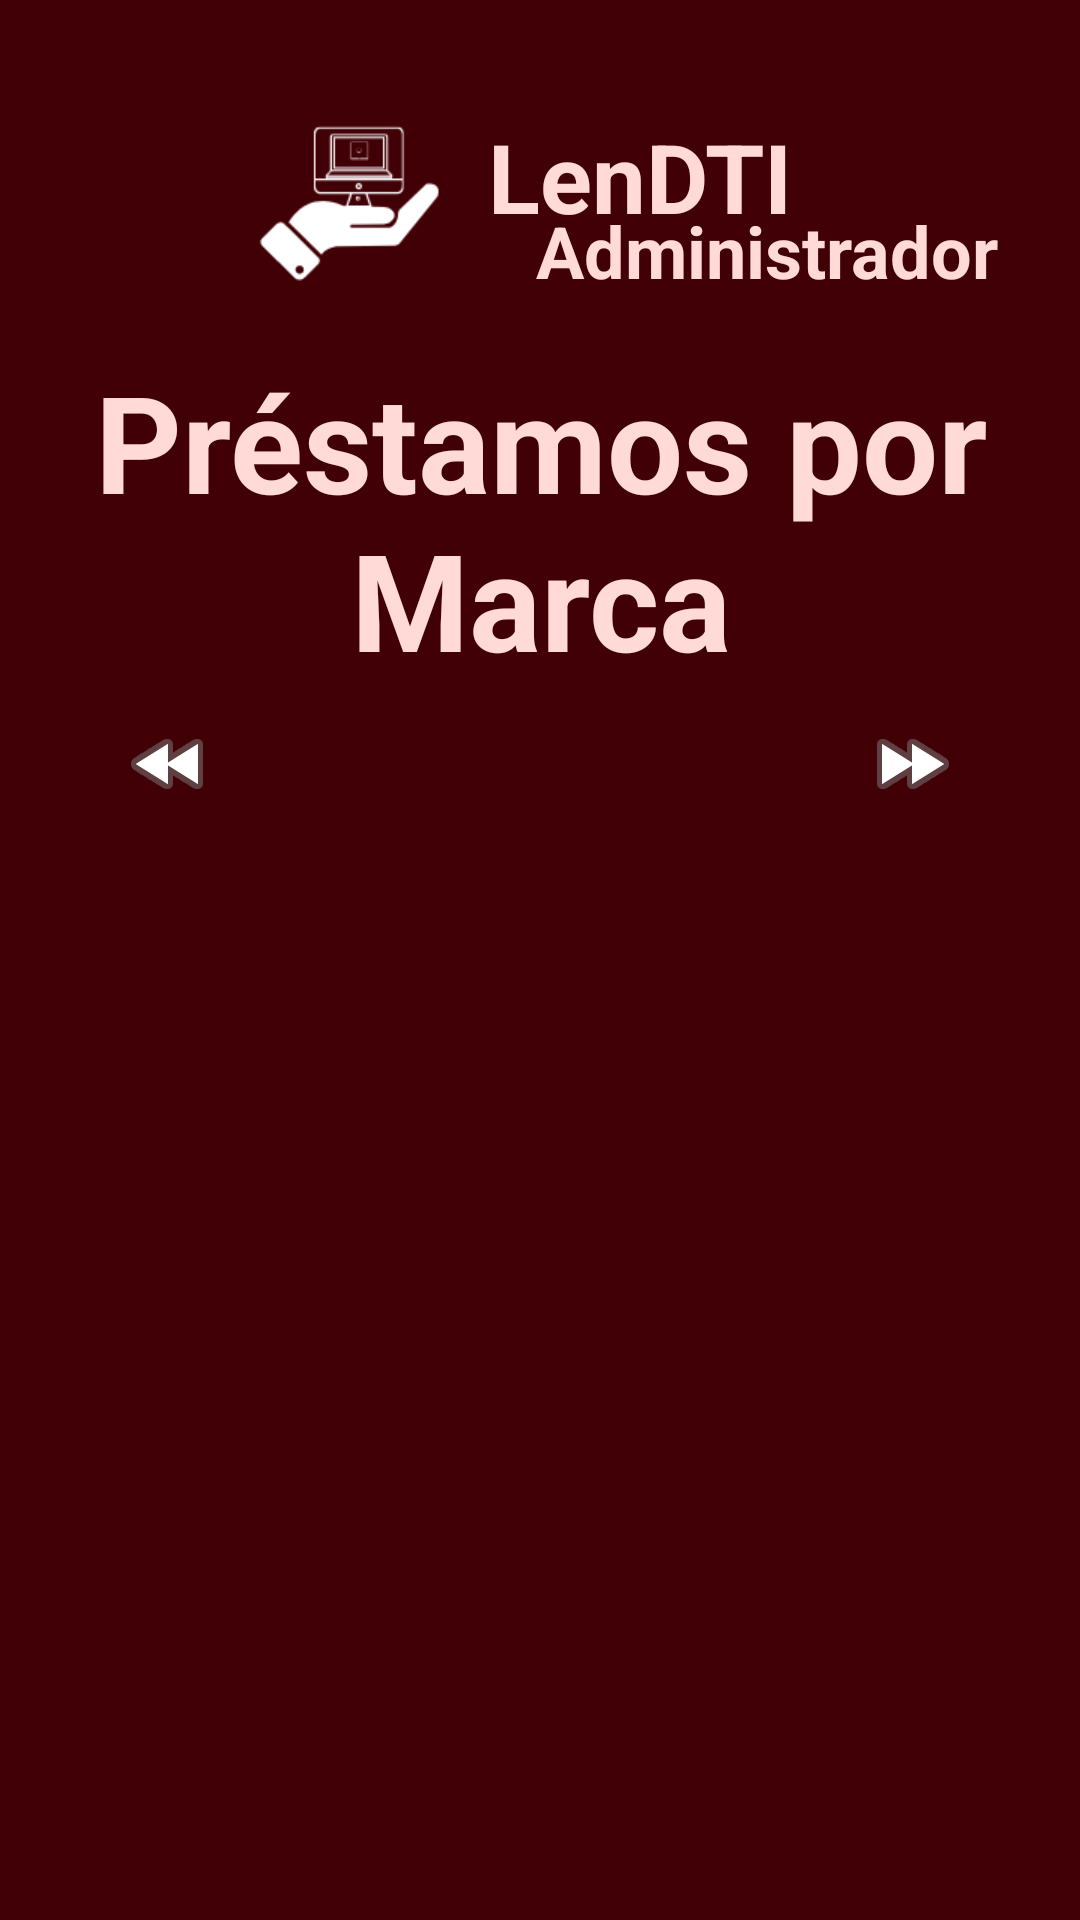

Where to tap for icons on this 1080×1920 app screen, as [x,y]:
rew: [167,764]
